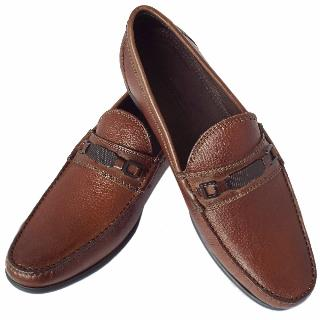loafers: (3, 0, 320, 314)
